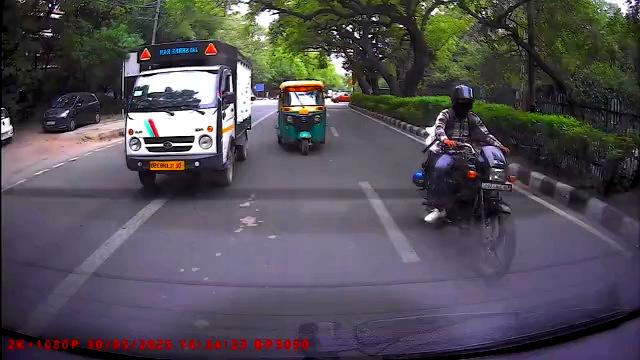motorcycle_with_helmet: (414, 85, 519, 279)
